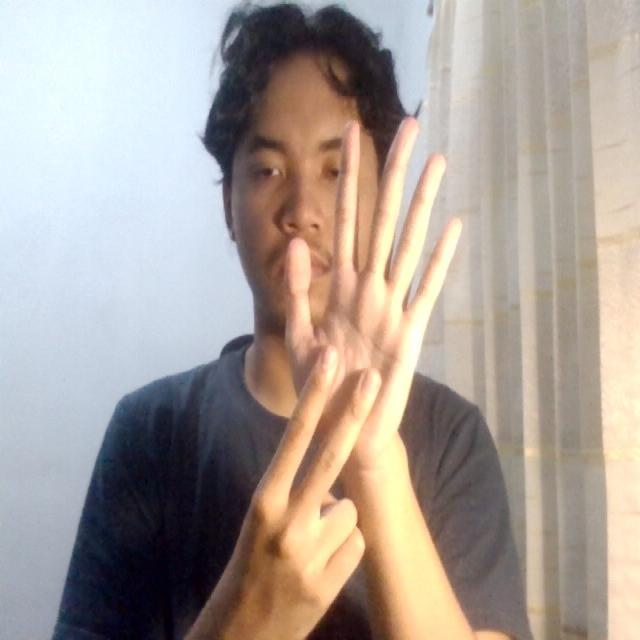IloveYou: (230, 101, 482, 579)
